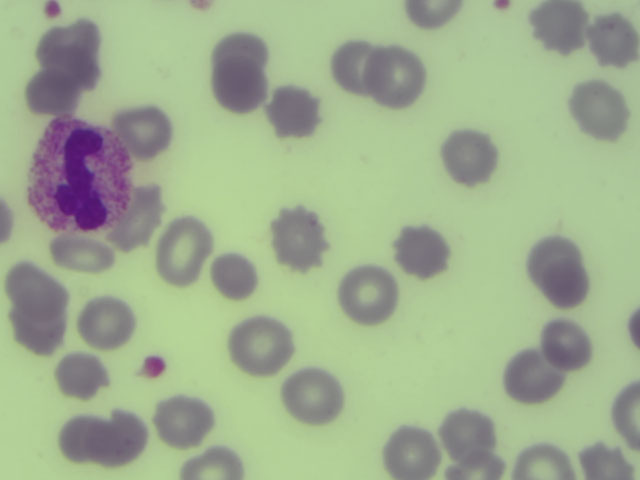Platelets: (141, 355, 165, 376), (43, 4, 63, 20), (494, 2, 510, 12)
RBC: (502, 340, 566, 409), (224, 312, 295, 374), (337, 262, 403, 328), (570, 79, 631, 146), (268, 202, 327, 271), (380, 420, 443, 480), (367, 43, 426, 105), (279, 370, 343, 427), (436, 128, 496, 188), (394, 220, 453, 280), (156, 217, 208, 285), (210, 53, 264, 118), (13, 293, 65, 357), (3, 264, 67, 314), (77, 294, 135, 349), (440, 407, 496, 461), (154, 396, 213, 446), (533, 1, 588, 54), (102, 410, 152, 465), (269, 86, 319, 140), (24, 68, 74, 122), (216, 22, 266, 76), (210, 249, 260, 303), (118, 103, 168, 157), (529, 234, 579, 288), (540, 255, 590, 309), (543, 316, 593, 370), (588, 13, 638, 67), (330, 38, 380, 92), (38, 23, 88, 77), (53, 352, 110, 399), (49, 237, 118, 274), (56, 417, 105, 467), (515, 440, 573, 480), (179, 444, 242, 480), (580, 437, 631, 480), (128, 185, 159, 250), (610, 382, 640, 448), (400, 1, 461, 28), (620, 310, 640, 354), (1, 198, 16, 243)
WBC: (33, 120, 135, 237)
